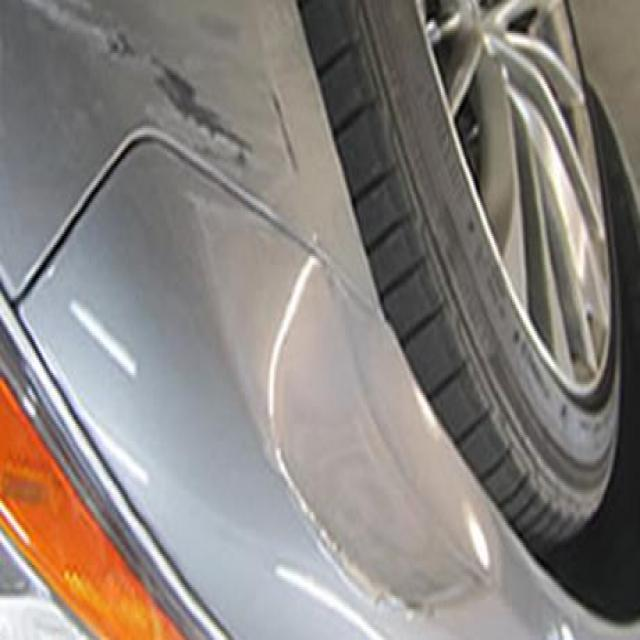scratch: (35, 0, 272, 183)
